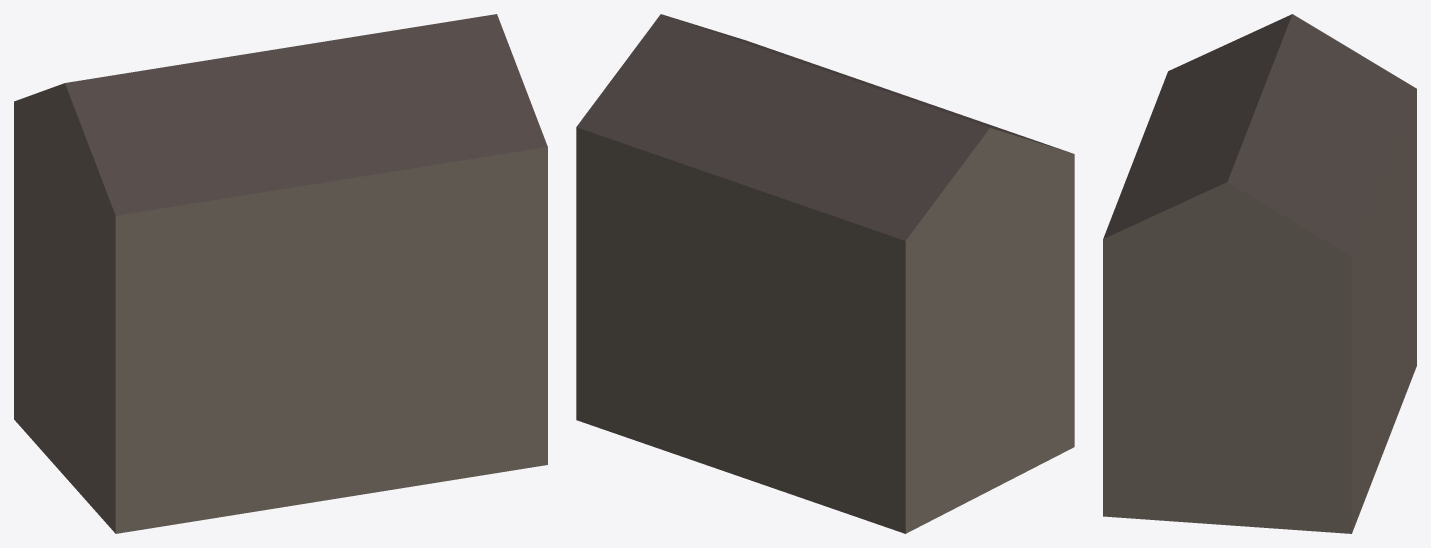
3 views of the same model, side by side, from view 1: azimuth 30°, elevation 25°; view 2: azimuth 150°, elevation 25°; view 3: azimuth 270°, elevation 25° (orthographic). The views are drawn at different scales.
Visible parts, largest first — view 1: HP-w858824344; view 2: HP-w858824344; view 3: HP-w858824344.
Part boxes in pixels (box(x1,y1,x2,y2)): HP-w858824344: box(14, 14, 547, 533); HP-w858824344: box(576, 14, 1074, 533); HP-w858824344: box(1103, 14, 1416, 533).
Size of the model in its own units: 8.6 by 7.43 by 6.15.
